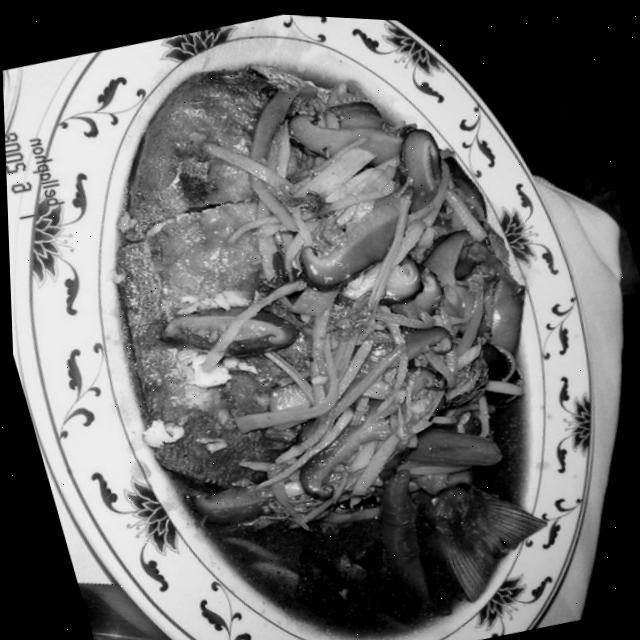牛肉菜式: (38, 2, 634, 640)
